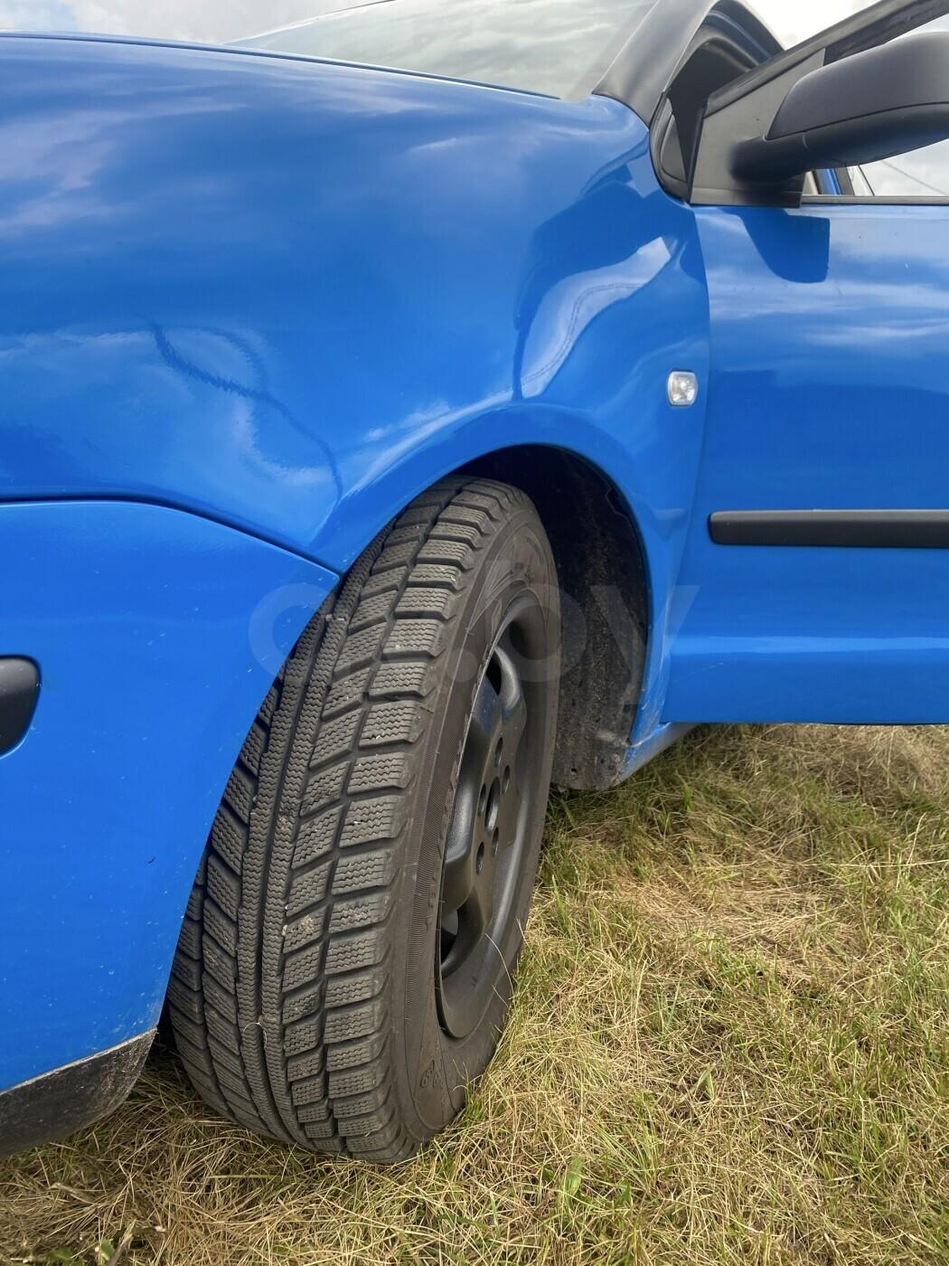Polo_2001-2005: (0, 0, 949, 1161)
